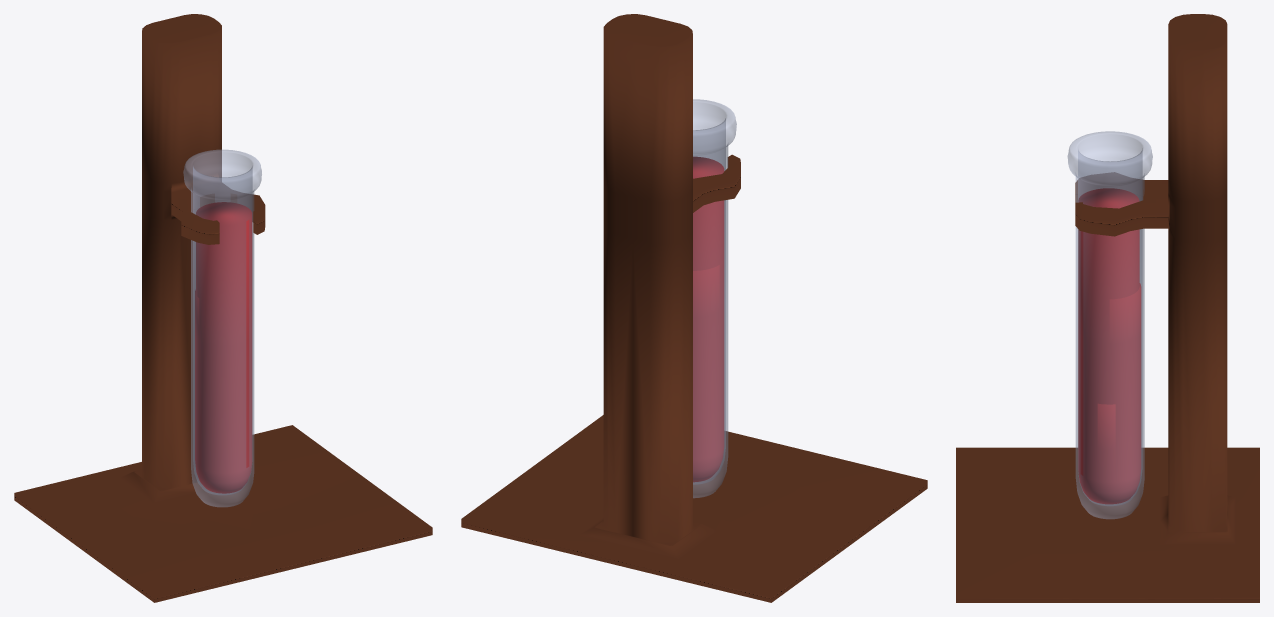
The model's file is testtube.fbx.
3 renders of one model, left to right at view 1: azimuth 30°, elevation 25°; view 2: azimuth 150°, elevation 25°; view 3: azimuth 270°, elevation 25°, orthographic. The views are drawn at different scales.
Visible parts, largest first — view 1: TubeHolder, TestTube, 100Full, 50Full; view 2: TubeHolder, TestTube, 50Full, 100Full; view 3: TubeHolder, TestTube, 100Full, 50Full, 25Fuil.
Part boxes in pixels (box(x1,y1,x2,y2)): TubeHolder: box(14, 14, 432, 602); TestTube: box(183, 149, 261, 507); 100Full: box(196, 202, 252, 493); 50Full: box(195, 290, 205, 487); TubeHolder: box(461, 14, 927, 602); TestTube: box(693, 99, 736, 498); 50Full: box(693, 265, 719, 482); 100Full: box(693, 156, 724, 475); TubeHolder: box(956, 14, 1259, 602); TestTube: box(1067, 131, 1152, 519); 100Full: box(1078, 188, 1139, 503); 50Full: box(1109, 283, 1141, 503); 25Fuil: box(1097, 403, 1115, 504).
Size of the model in its own units: 161 by 253 by 140.
